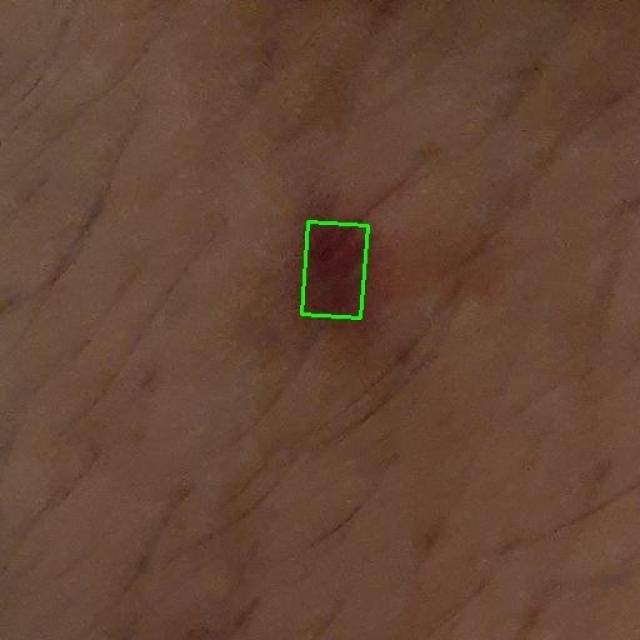Contact Dermatitis: (302, 221, 368, 318)
